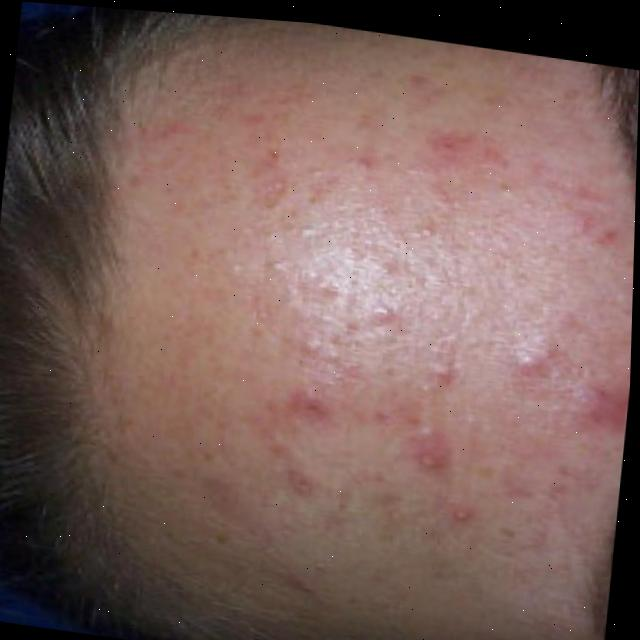Acne: (105, 33, 596, 617)
